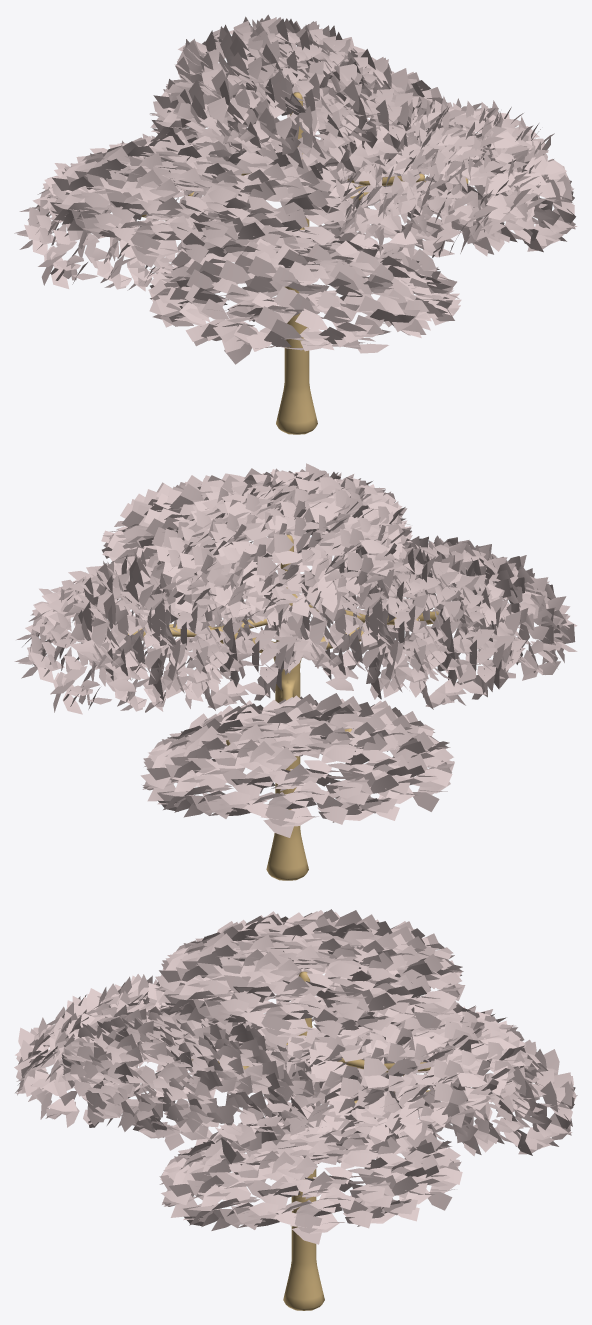
Rendered from Tamarisk.glb.
The picture shows the model from 3 angles, top to bottom: view 1: azimuth 30°, elevation 25°; view 2: azimuth 150°, elevation 25°; view 3: azimuth 270°, elevation 25°; orthographic projection. The views are drawn at different scales.
Parts seen in each view (by area): view 1: Leaf_copy15, Leaf_copy12, Leaf, Leaf_copy10, Leaf_copy13, Leaf_copy14, Leaf_copy11, Trunk; view 2: Leaf_copy13, Leaf, Leaf_copy12, Leaf_copy11, Leaf_copy15, Leaf_copy14, Leaf_copy10, Trunk; view 3: Leaf, Leaf_copy10, Leaf_copy14, Leaf_copy11, Leaf_copy13, Leaf_copy15, Trunk, Leaf_copy12.
Part boxes in pixels (<box>): Leaf_copy15: <box>148,225,461,364</box>; Leaf_copy12: <box>48,130,356,267</box>; Leaf: <box>164,14,419,172</box>; Leaf_copy10: <box>322,96,566,260</box>; Leaf_copy13: <box>14,134,250,291</box>; Leaf_copy14: <box>320,118,577,257</box>; Leaf_copy11: <box>149,59,455,186</box>; Trunk: <box>141,92,468,434</box>; Leaf_copy13: <box>140,693,454,837</box>; Leaf: <box>153,463,406,623</box>; Leaf_copy12: <box>296,544,526,709</box>; Leaf_copy11: <box>68,550,308,710</box>; Leaf_copy15: <box>340,535,577,700</box>; Leaf_copy14: <box>14,562,251,714</box>; Leaf_copy10: <box>101,468,412,617</box>; Trunk: <box>128,534,438,880</box>; Leaf: <box>155,909,465,1047</box>; Leaf_copy10: <box>60,1006,323,1164</box>; Leaf_copy14: <box>159,1103,462,1244</box>; Leaf_copy11: <box>262,1000,526,1149</box>; Leaf_copy13: <box>319,1039,577,1156</box>; Leaf_copy15: <box>14,974,251,1127</box>; Trunk: <box>191,971,430,1310</box>; Leaf_copy12: <box>147,949,400,1050</box>.
Size of the model in its own units: 11.54 by 8.95 by 12.02.
